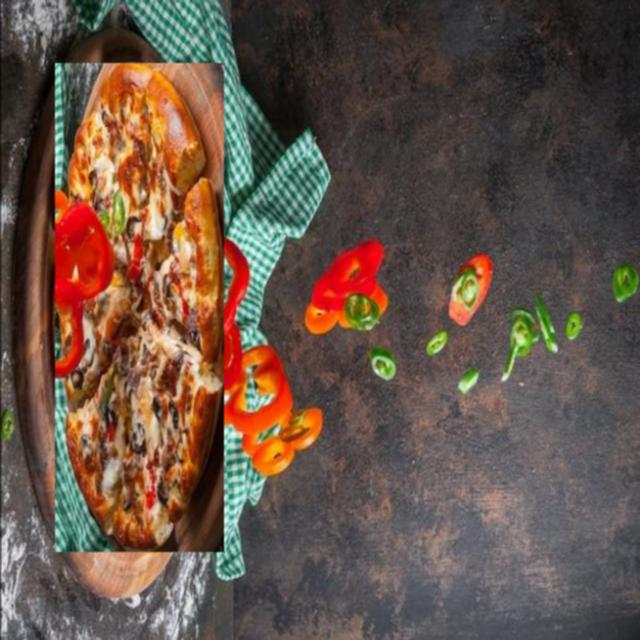olive: (132, 163, 144, 192), (160, 181, 172, 208), (98, 183, 108, 215), (138, 373, 150, 398), (106, 309, 115, 342), (109, 110, 119, 134), (194, 226, 206, 246), (115, 194, 124, 218), (180, 428, 188, 444)
pizza: (52, 63, 222, 552)
